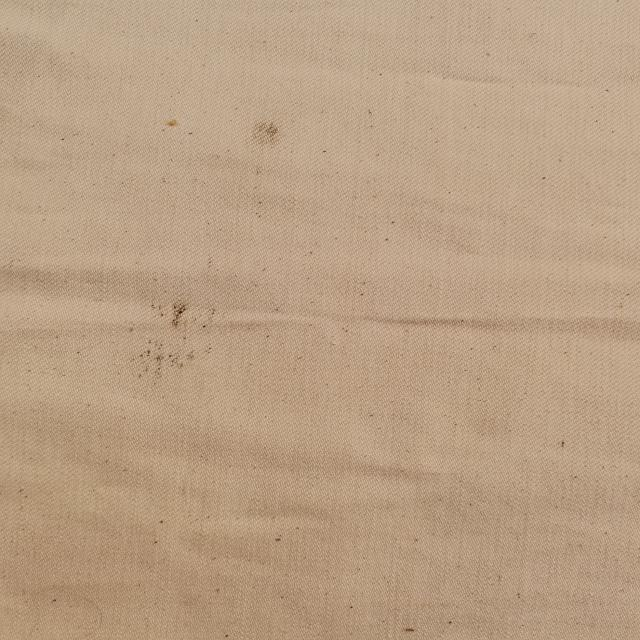taaaches: (108, 297, 238, 393), (251, 114, 289, 150), (152, 115, 202, 138)
